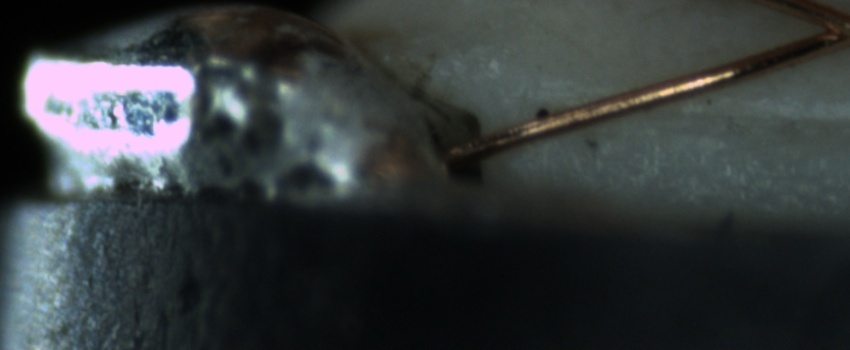CL: (790, 5, 850, 55)
DL: (606, 81, 850, 153)
